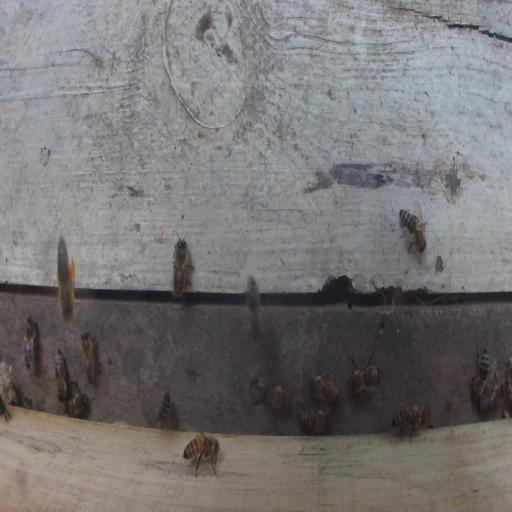nonpollenbee: (182, 431, 221, 477), (390, 404, 433, 443), (398, 203, 427, 256), (249, 375, 289, 411), (245, 273, 266, 340), (347, 354, 379, 397), (171, 236, 193, 298), (472, 342, 489, 399), (310, 373, 339, 405), (22, 314, 37, 371), (480, 378, 503, 413), (81, 329, 95, 385), (297, 408, 327, 434), (68, 382, 88, 417), (55, 348, 67, 403), (502, 364, 512, 417), (158, 391, 171, 429), (1, 394, 12, 421)
pollenbee: (56, 235, 76, 324)
